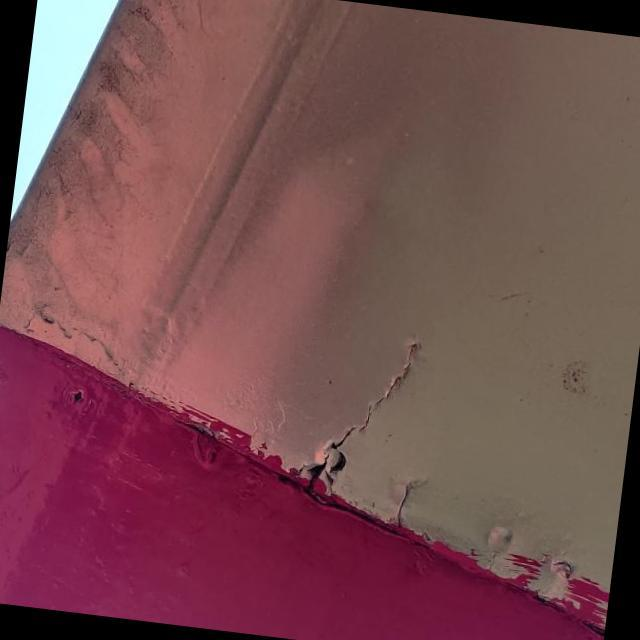Rupture: (277, 313, 432, 516), (376, 468, 425, 540)
